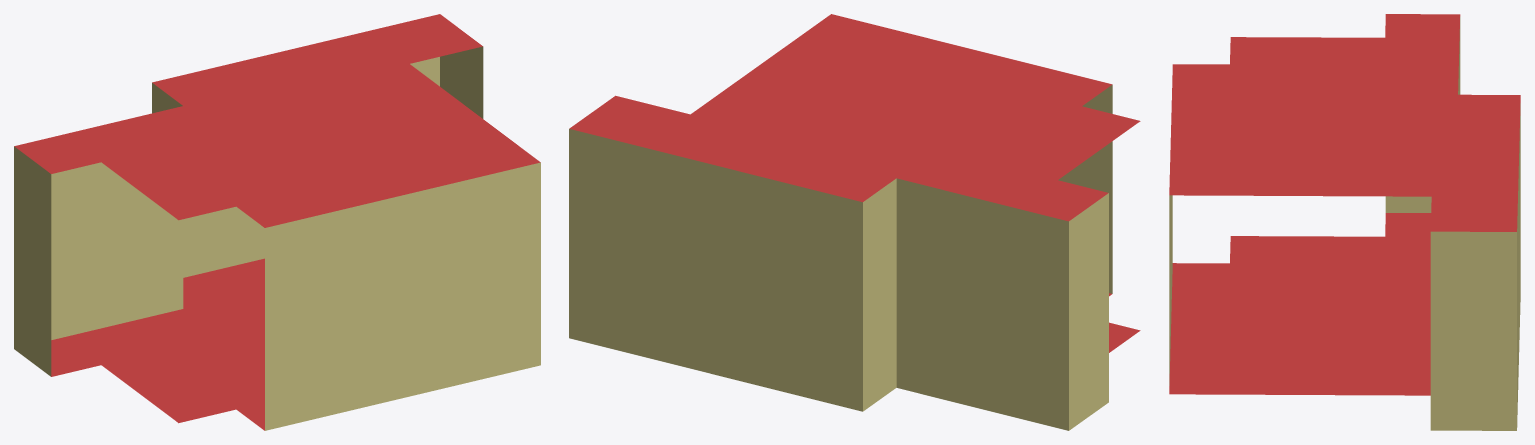
3 views of the same model, side by side, from view 1: azimuth 30°, elevation 25°; view 2: azimuth 150°, elevation 25°; view 3: azimuth 270°, elevation 25° (orthographic). The views are drawn at different scales.
Bounding box in the file's own units: 16.58 × 11.3 × 7.05.
